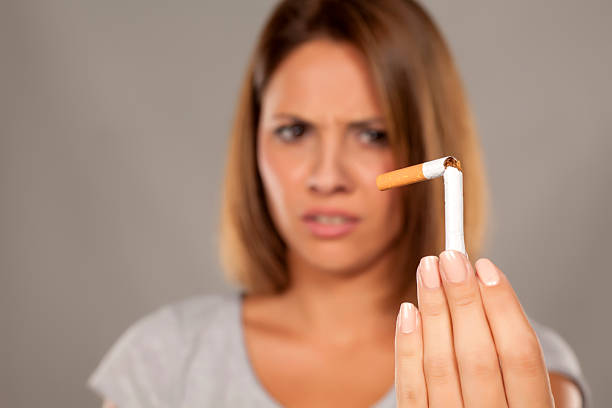cigarette: (374, 156, 465, 191), (442, 164, 467, 254)
